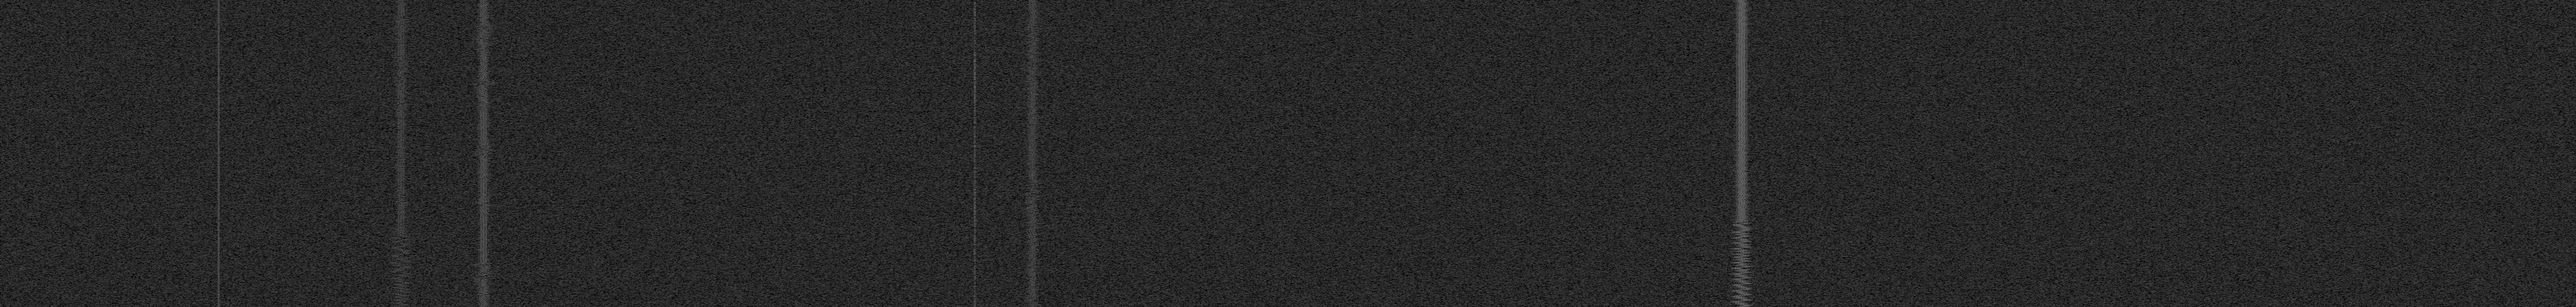wv_cw: (217, 0, 220, 307)
wv_lsb: (973, 0, 977, 281), (973, 282, 977, 307)
wv_wbfm: (470, 0, 498, 307), (1728, 0, 1755, 307), (1020, 0, 1045, 307), (389, 0, 414, 258), (388, 256, 414, 307)
